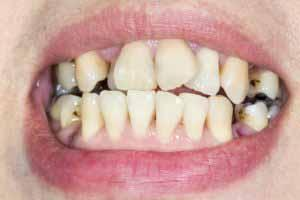LL1BC_sdecay: (237, 101, 269, 130)
LLCI_healthy: (156, 92, 183, 137), (207, 96, 234, 140)
LLLI_healthy: (182, 93, 207, 139)
LRCI_healthy: (127, 89, 155, 136), (81, 93, 102, 139)
LRLI_healthy: (99, 90, 129, 140)
UL1BC_sdecay: (250, 69, 279, 100)
ULCI_healthy: (154, 39, 197, 90), (220, 54, 249, 104)
URCI_healthy: (115, 45, 155, 90), (77, 51, 109, 94)
